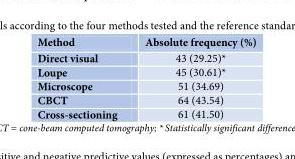table: (36, 37, 255, 120)
table column: (130, 37, 255, 120), (36, 37, 130, 120)
table column header: (36, 37, 255, 50)
table row: (36, 50, 255, 65), (36, 65, 255, 79), (36, 79, 255, 93), (36, 93, 255, 107), (36, 37, 255, 50), (36, 107, 255, 120)
